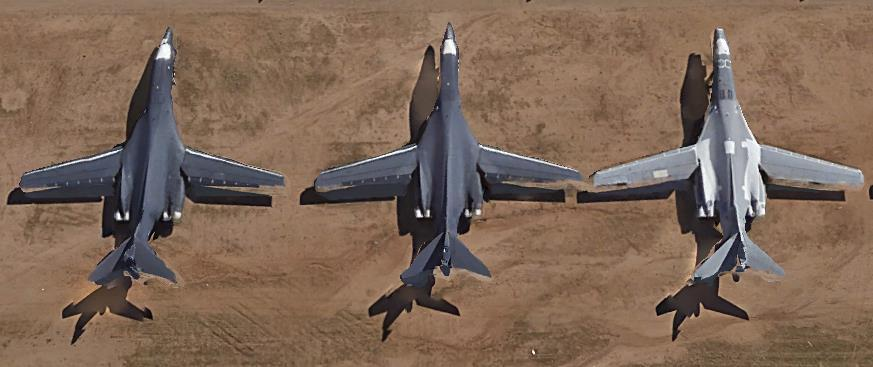B-1B: (308, 14, 588, 289), (10, 22, 291, 293), (588, 22, 869, 289)
